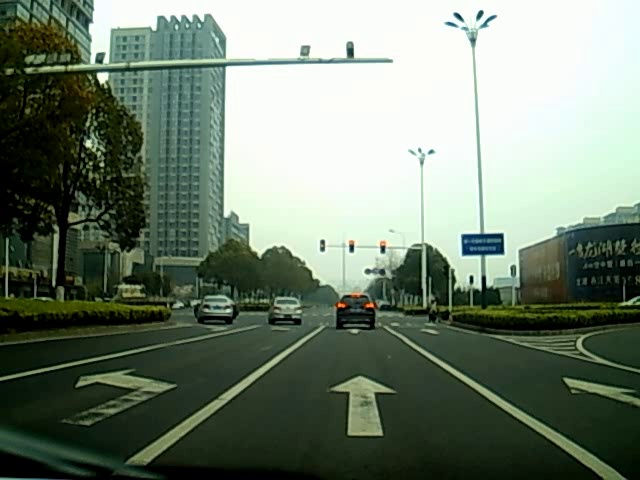Traffic_Light_stop: (378, 240, 386, 255), (349, 240, 356, 256)
